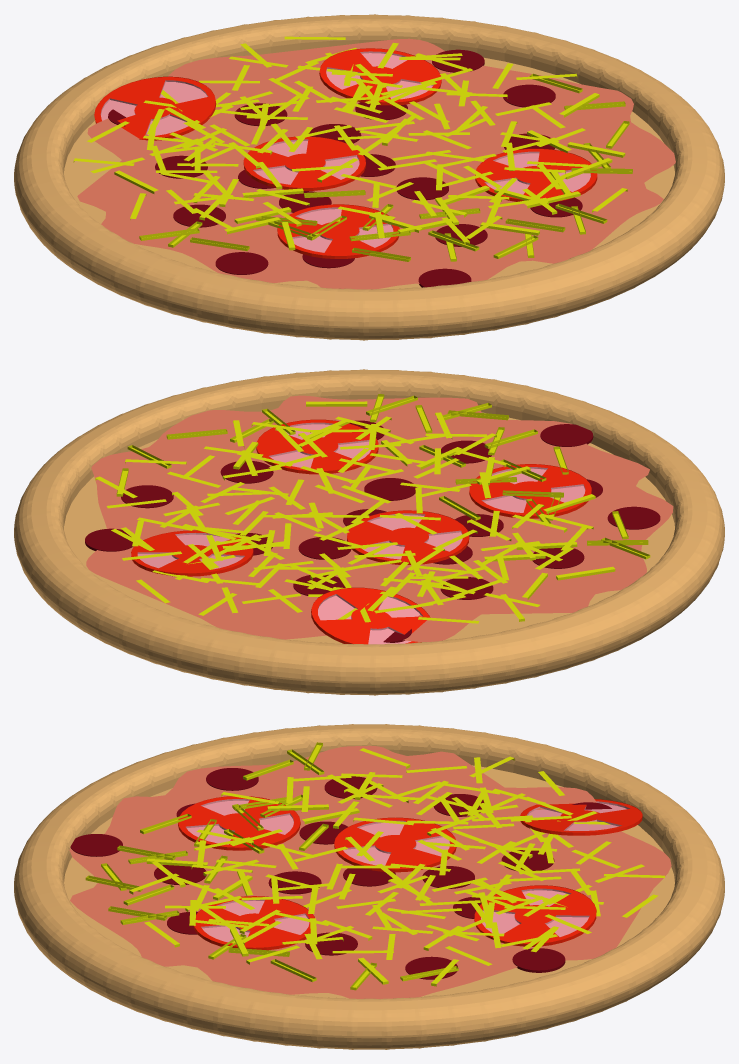
Rendered from pwsct.fbx.
3 renders of one model, top to bottom at view 1: azimuth 30°, elevation 25°; view 2: azimuth 150°, elevation 25°; view 3: azimuth 270°, elevation 25°, orthographic.
Parts seen in each view (by area): view 1: pwsct; view 2: pwsct; view 3: pwsct.
Part boxes in pixels (x1,y1,x2,y2): pwsct: (14, 14, 724, 340); pwsct: (14, 369, 724, 695); pwsct: (14, 724, 724, 1049).
Bounding box in the file's own units: 232 × 19.76 × 232.
